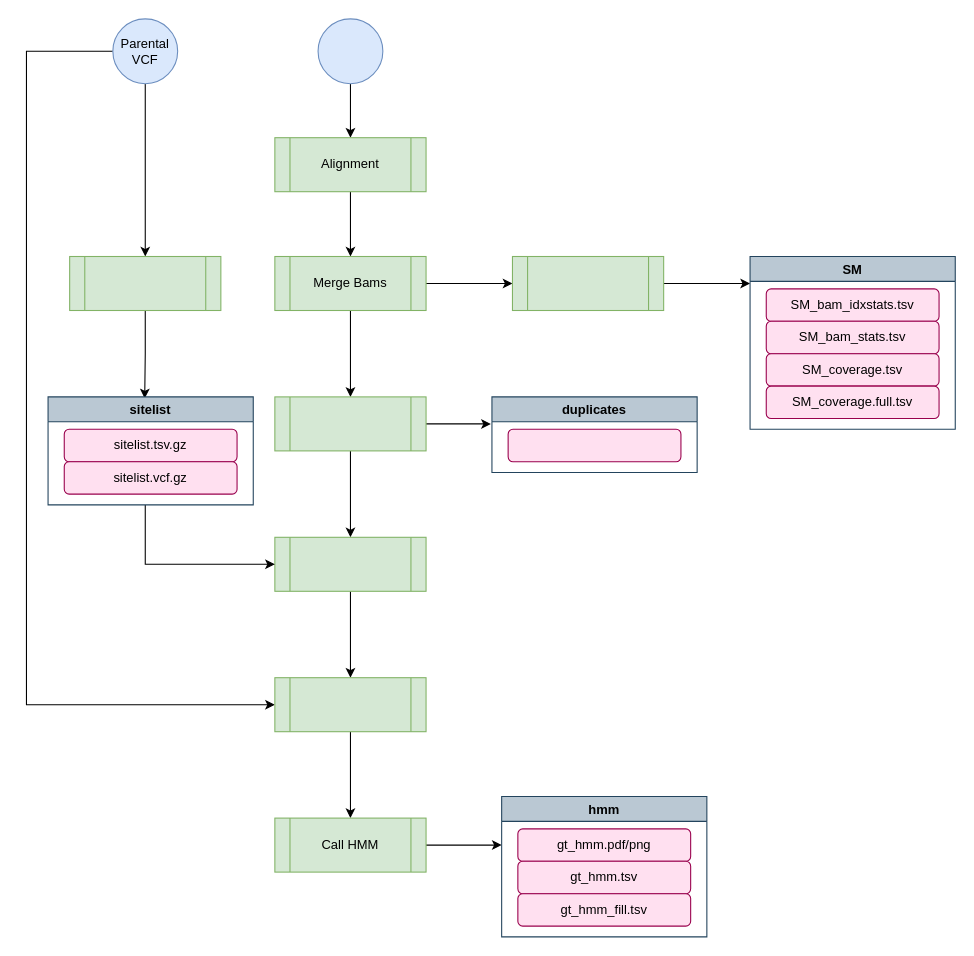
The diagram is 974 pixels wide and 956 high, and some of its shapes have lost their labels. Each missing label, with the centre of its shape:
Bam stats: (x=587, y=282)
bam_duplicates.tsv: (x=594, y=445)
Call variants: (x=350, y=563)
fq_sheet: (x=350, y=51)
Mark duplicates: (x=350, y=423)
Merge VCF: (x=350, y=704)
Pull parental genotypes: (x=145, y=282)
